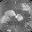people: (4, 9, 16, 17), (1, 16, 12, 24), (15, 14, 23, 22)
